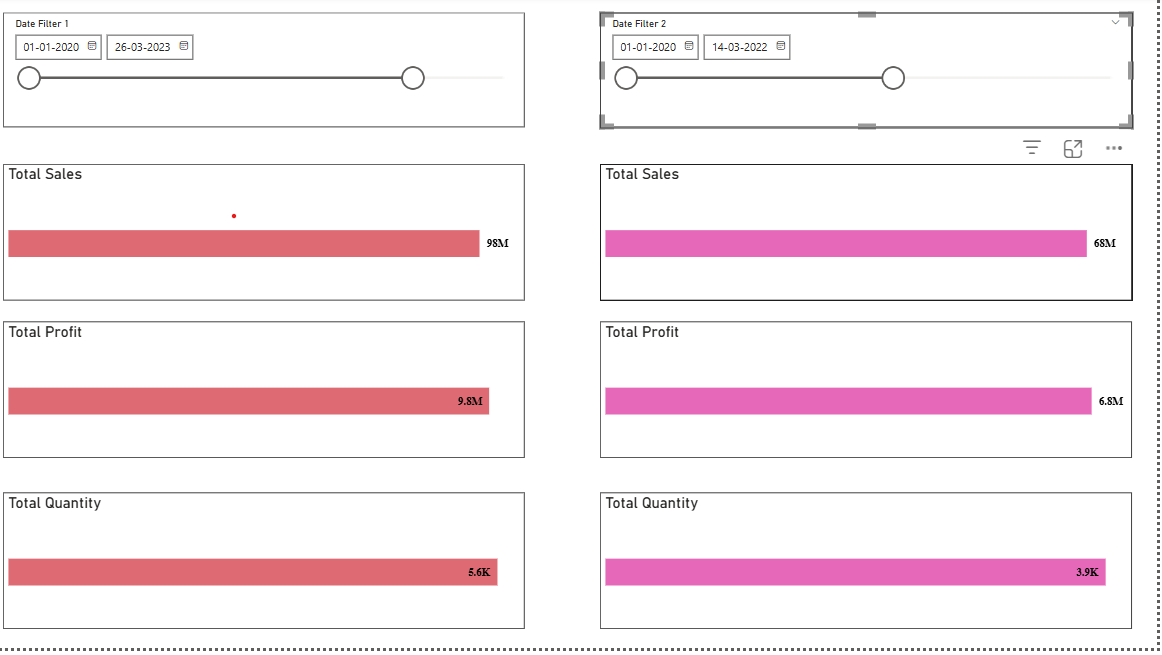

The dashboard page shown, as its layout file describes it:
{"tool":"powerbi","page":{"name":"Comparison Sales/Profit/Quantity 2","canvas":[1280,720],"ordinal":3},"visuals":[{"type":"slicer","fields":{"Values":["Fact Table.Date (dd/mm/yyyy)"]},"box":[6.3,18.1,575.8,127],"z":0},{"type":"slicer","fields":{"Values":["Fact Table.Date (dd/mm/yyyy)"]},"box":[666.5,18.1,587.6,127],"z":1000},{"type":"barChart","title":"Total Sales   ","fields":{"Y":["Sum(Fact Table.Net Sales   )"]},"box":[6.3,185,575.8,150.5],"z":2000},{"type":"barChart","title":"Total Profit","fields":{"Y":["Sum(Fact Table.Profit)"]},"box":[6.3,360,575.8,150.5],"z":3000},{"type":"barChart","title":"Total Quantity","fields":{"Y":["Sum(Fact Table.Units Sold)"]},"box":[6.3,548.6,575.8,150.5],"z":4000},{"type":"barChart","title":"Total Sales   ","fields":{"Y":["Sum(Fact Table.Net Sales   )"]},"box":[666.5,185,587.6,150.5],"z":5000},{"type":"barChart","title":"Total Profit","fields":{"Y":["Sum(Fact Table.Profit)"]},"box":[666.5,360,587.6,150.5],"z":6000},{"type":"barChart","title":"Total Quantity","fields":{"Y":["Sum(Fact Table.Units Sold)"]},"box":[666.5,548.6,587.6,150.5],"z":7000}]}

Visuals, with their boxes in screenshot pixels (x1, y1, x2, y2), scaled from the page's 1280x720 canvas onto the 1162x655 screenshot:
slicer - Fact Table.Date (dd/mm/yyyy): <box>6,16,528,132</box>
slicer - Fact Table.Date (dd/mm/yyyy): <box>605,16,1138,132</box>
"Total Sales   " barChart: <box>6,168,528,305</box>
"Total Profit" barChart: <box>6,328,528,464</box>
"Total Quantity" barChart: <box>6,499,528,636</box>
"Total Sales   " barChart: <box>605,168,1138,305</box>
"Total Profit" barChart: <box>605,328,1138,464</box>
"Total Quantity" barChart: <box>605,499,1138,636</box>
